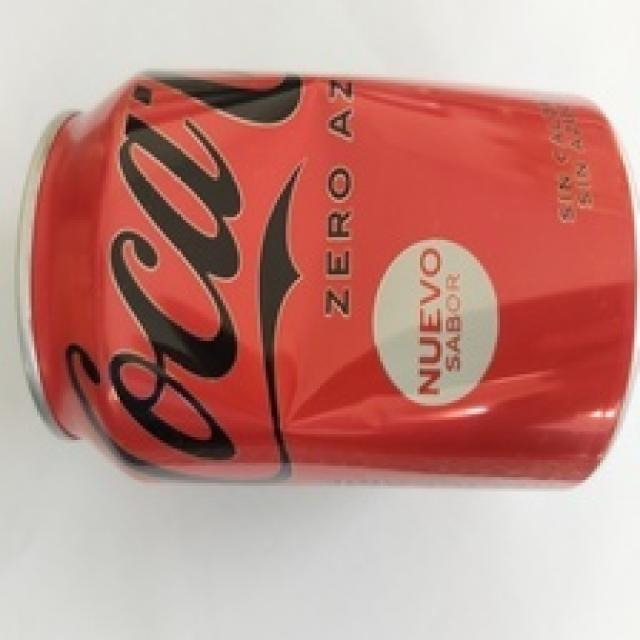recyclable: (12, 67, 638, 489)
